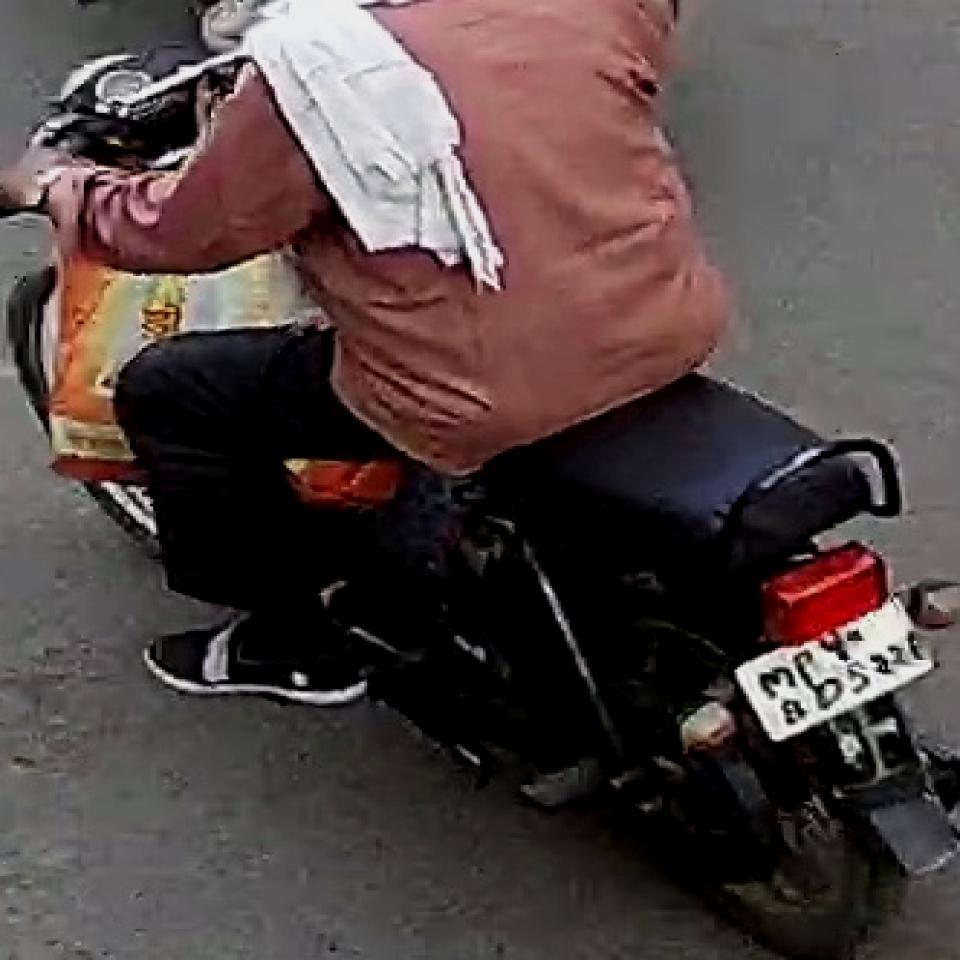tail_light: (764, 539, 886, 639)
